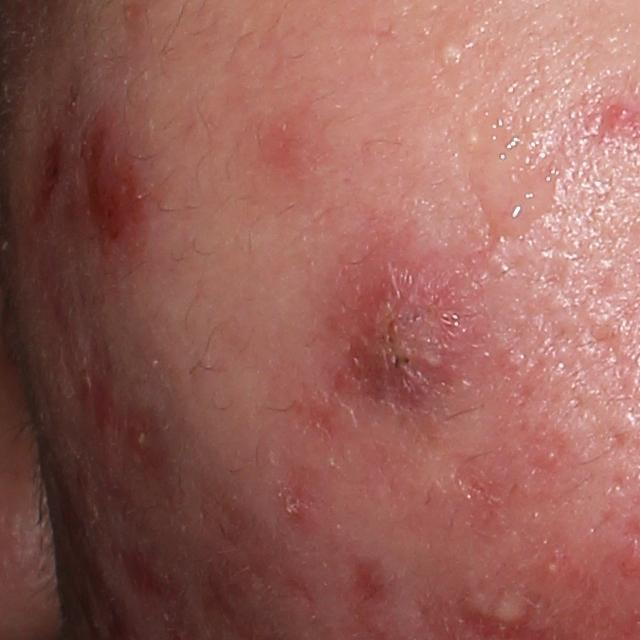comedo: (433, 37, 464, 63)
hypertrophic_scar: (494, 589, 529, 625)
nodule: (336, 243, 487, 430), (69, 87, 156, 258)
